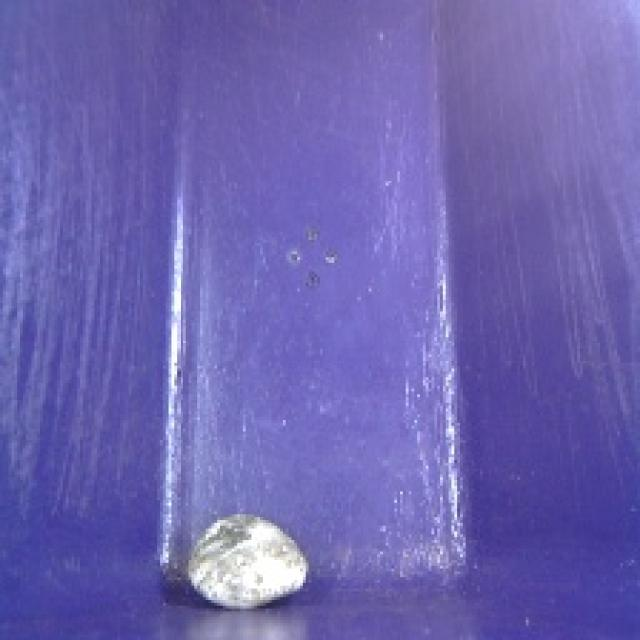cobbles: (176, 498, 317, 618)
